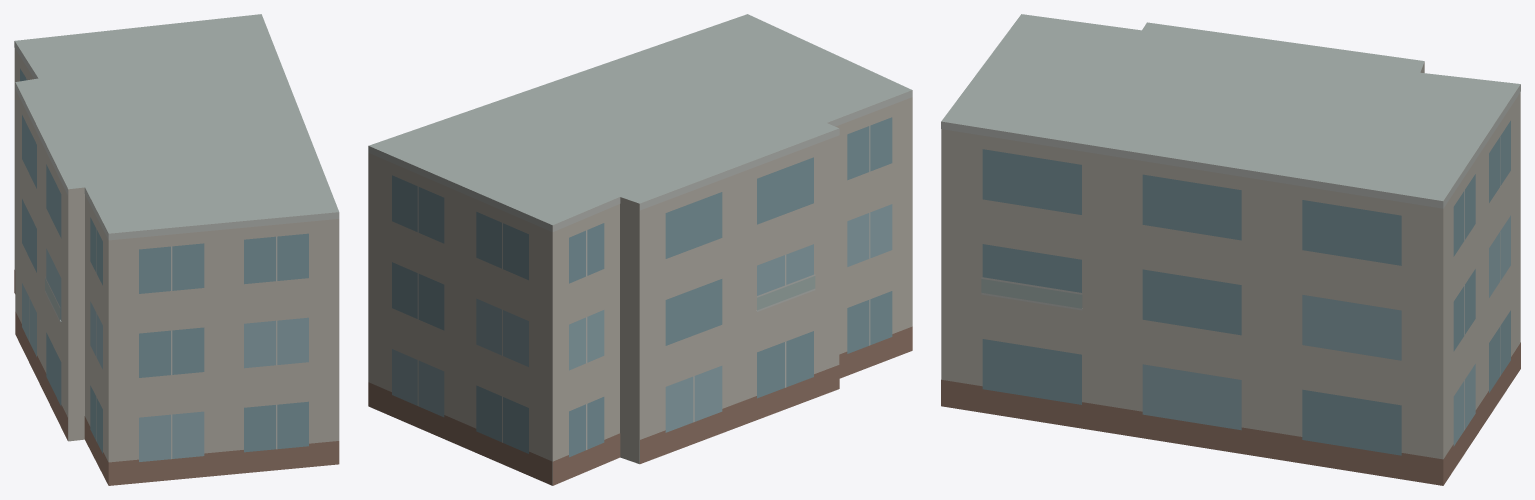
The model's file is survey-upis-32944216.glb.
The picture shows the model from 3 angles, left to right: view 1: azimuth 30°, elevation 25°; view 2: azimuth 150°, elevation 25°; view 3: azimuth 270°, elevation 25°; orthographic projection. The views are drawn at different scales.
Visible parts, largest first — view 1: survey-upis-32944216.tmp; view 2: survey-upis-32944216.tmp; view 3: survey-upis-32944216.tmp.
Boxes of the visible parts, box(x1,y1,x2,y2) form: survey-upis-32944216.tmp: box(14, 14, 339, 485); survey-upis-32944216.tmp: box(368, 14, 912, 485); survey-upis-32944216.tmp: box(941, 14, 1520, 485).
Bounding box in the file's own units: 12.91 × 9.15 × 16.9.
